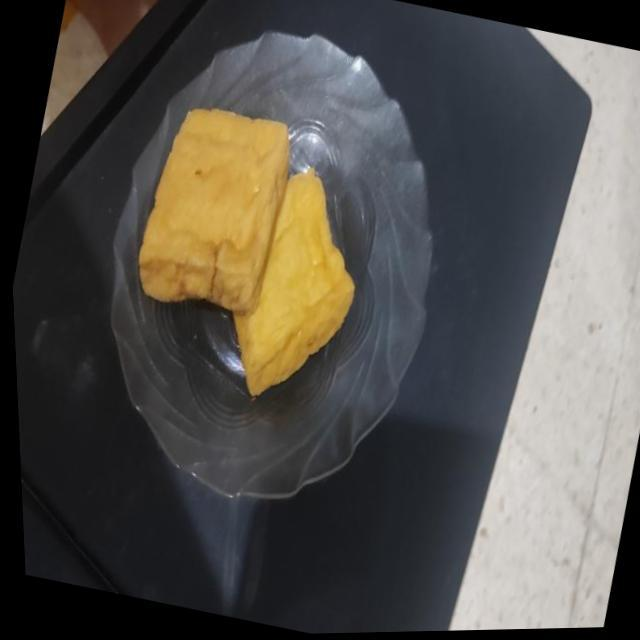tahu_goreng: (138, 108, 289, 315), (233, 168, 354, 396)
